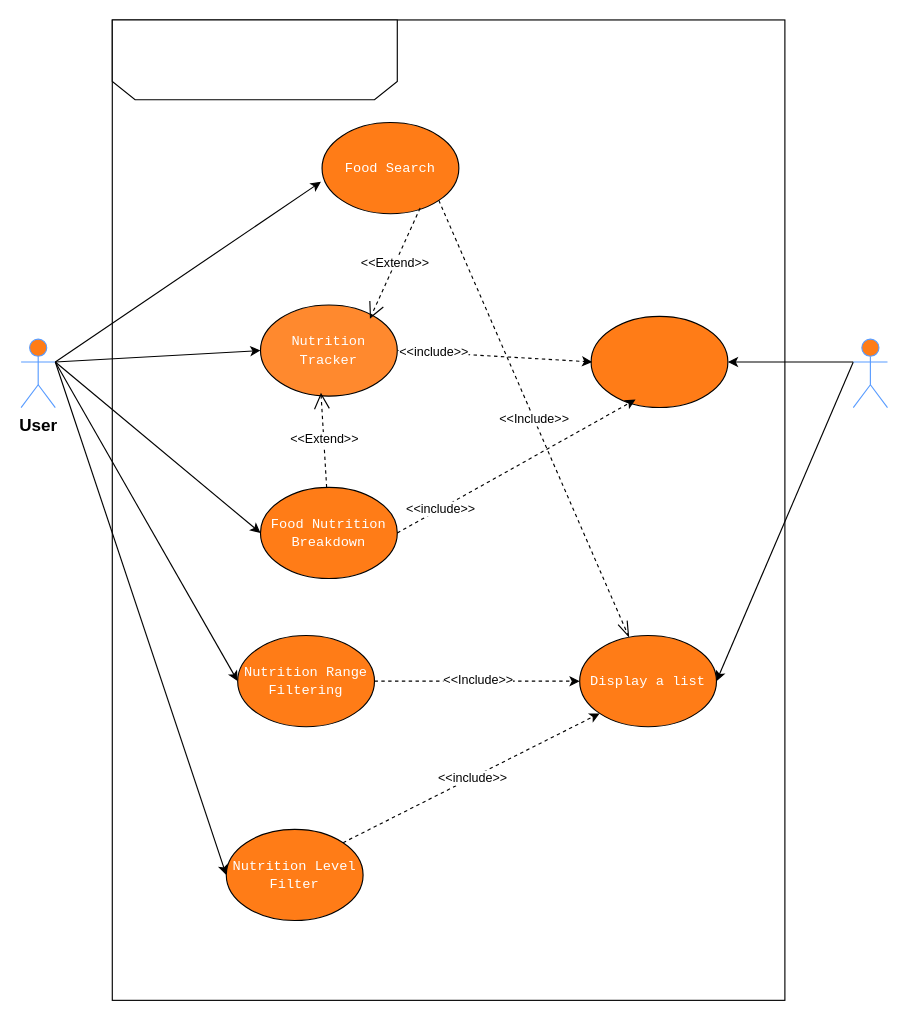
The diagram is 920 pixels wide and 1020 high, and some of its shapes have lost their labels. The shapes that lost their labels are listed below. From the top down, each one's centre as x and y in pixels, then its label:
At (x=254, y=59): "Use Case Diagram".
At (x=659, y=361): "Create visualisation".
At (x=869, y=373): "System".
